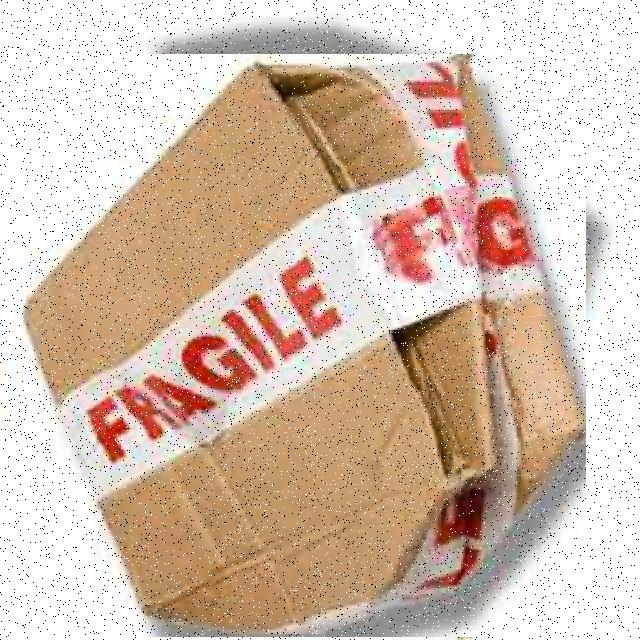defect: (23, 54, 586, 637)
